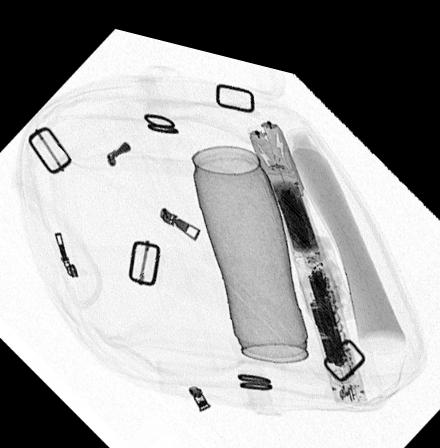Baton: (244, 103, 368, 386)
